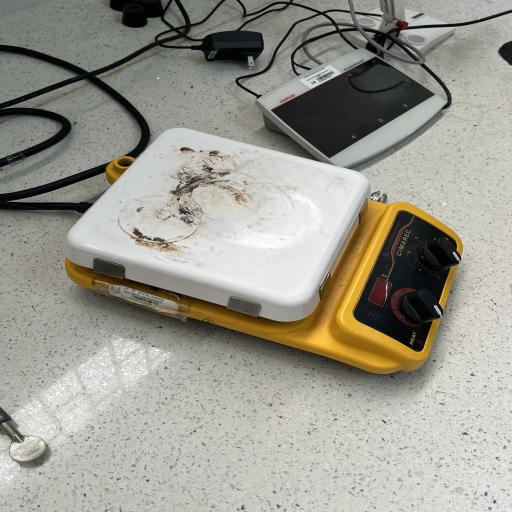Plancha_Agitacion_Cimarec: (46, 116, 475, 395)
